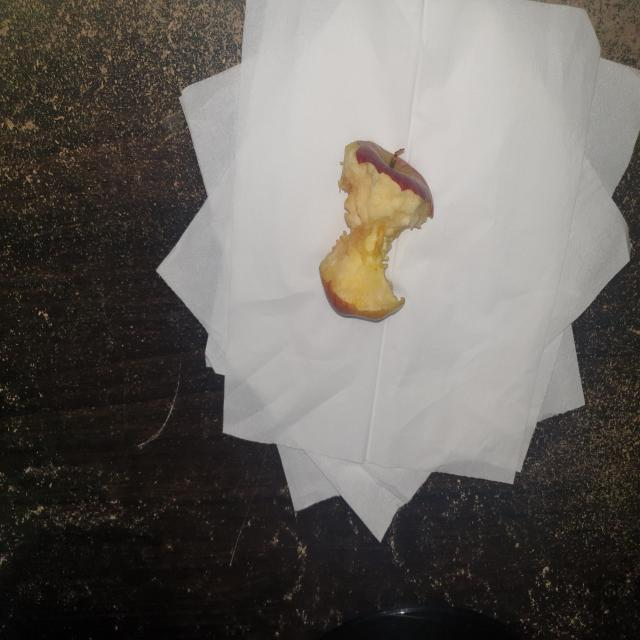apple: (318, 132, 442, 328)
